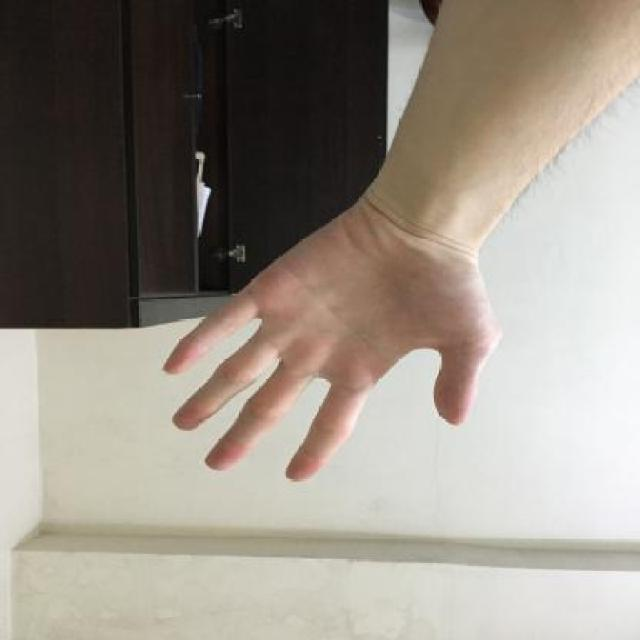bare_hand: (153, 178, 510, 500)
